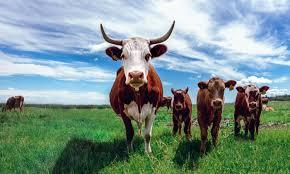cow: (104, 36, 168, 153), (196, 76, 239, 150), (235, 86, 270, 142), (170, 88, 194, 136), (3, 95, 25, 112), (154, 97, 176, 107)
